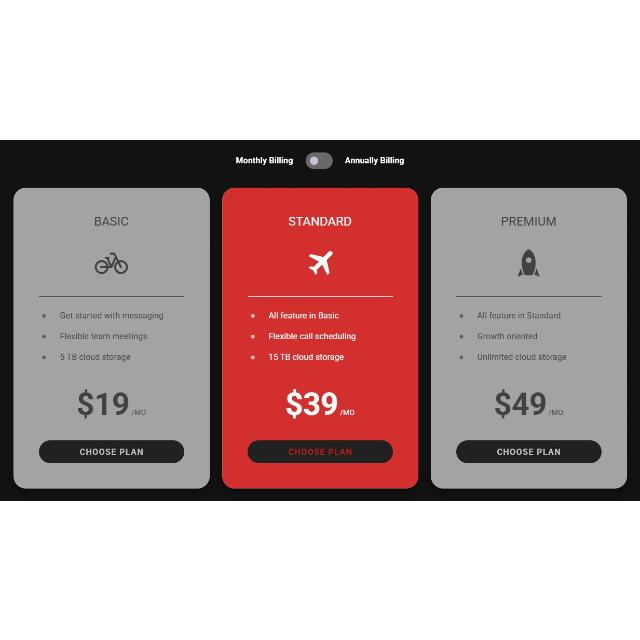QLabel: (75, 387, 128, 419), (285, 388, 337, 418), (40, 309, 164, 321), (496, 389, 546, 415), (458, 352, 568, 362), (456, 310, 564, 320), (40, 330, 148, 340), (248, 332, 356, 341), (250, 352, 344, 362), (41, 352, 131, 362), (250, 310, 340, 320), (287, 214, 351, 226), (78, 446, 144, 456), (287, 446, 353, 456), (459, 331, 539, 339), (500, 216, 556, 227), (235, 154, 293, 164), (92, 215, 130, 228), (344, 156, 404, 164), (497, 448, 561, 454), (131, 408, 147, 417), (549, 408, 563, 416), (340, 409, 354, 415)
VBtn: (39, 439, 185, 463), (456, 439, 602, 463), (248, 440, 392, 462)
VCard: (429, 186, 629, 488), (220, 186, 420, 488), (12, 185, 210, 490)
VDivider: (452, 294, 606, 298), (246, 294, 394, 298), (38, 294, 185, 298)
VImg: (305, 240, 337, 284), (94, 249, 128, 275), (516, 247, 542, 279)
VSwitch: (305, 150, 333, 170)
